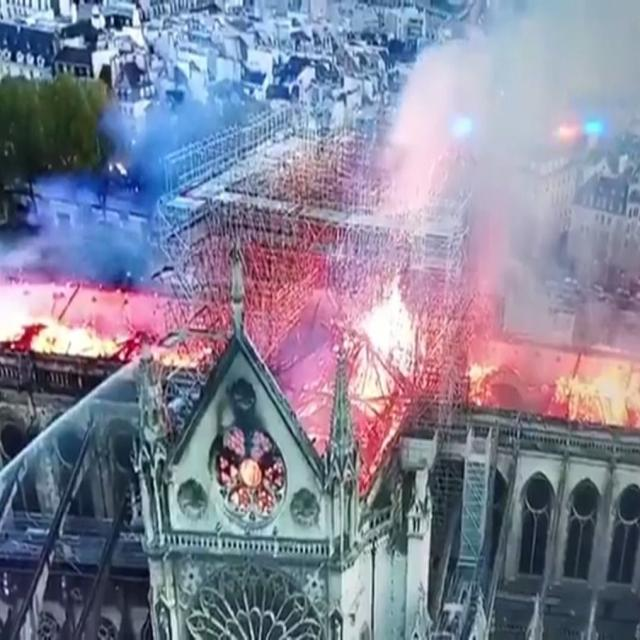Fire: (19, 303, 640, 426)
Smoke: (382, 17, 640, 313)
